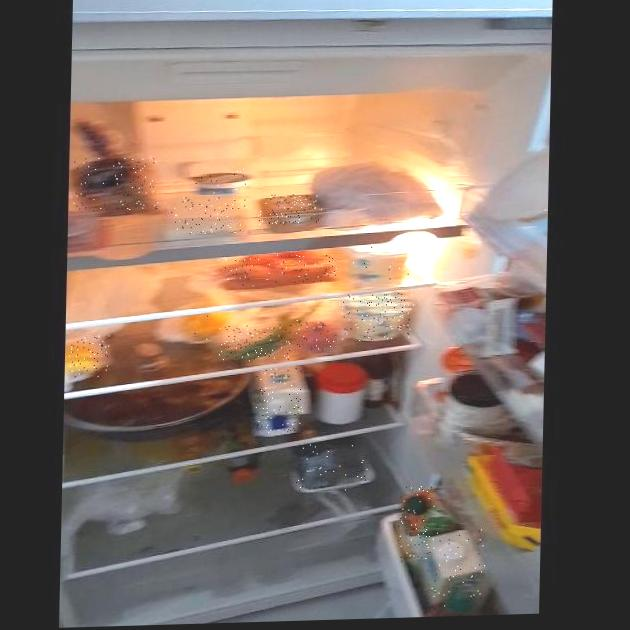bread: (73, 156, 160, 213)
broccoli: (293, 443, 371, 492)
butter: (258, 193, 323, 225)
carrot: (221, 253, 338, 287)
cheese: (171, 196, 246, 235)
green chilies: (219, 324, 292, 362)
juice: (397, 485, 437, 563)
lemon: (67, 336, 110, 378), (180, 306, 230, 342)
milk: (430, 529, 486, 610), (255, 368, 306, 436)
tomato: (296, 319, 338, 351)
yoghurt: (340, 293, 414, 342), (346, 244, 412, 284), (194, 168, 252, 194)
